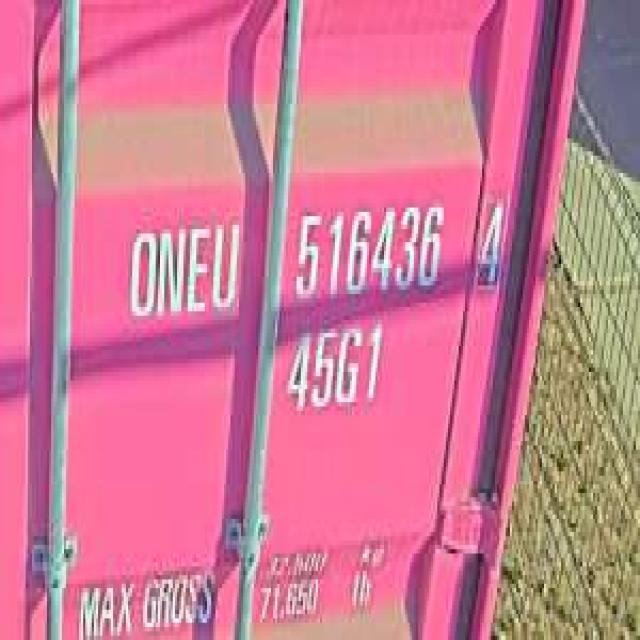dv: (469, 182, 508, 294)
owner: (122, 208, 243, 324)
serial: (290, 190, 446, 303)
size: (284, 316, 388, 420)
